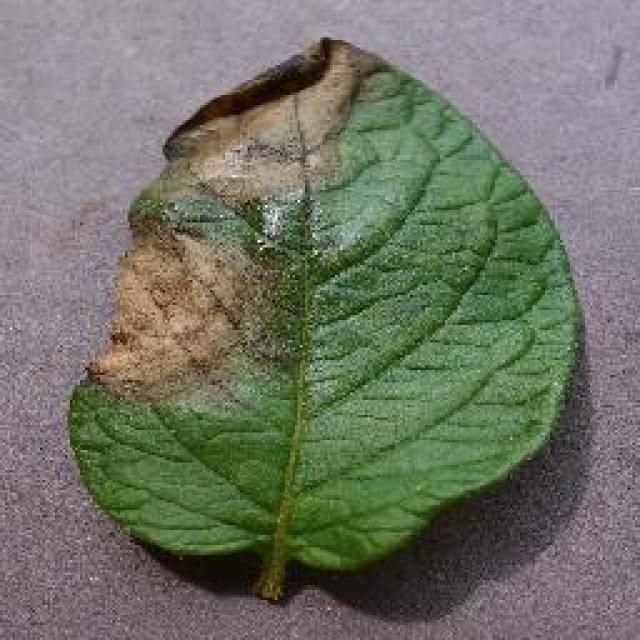late_blight: (63, 32, 585, 598)
